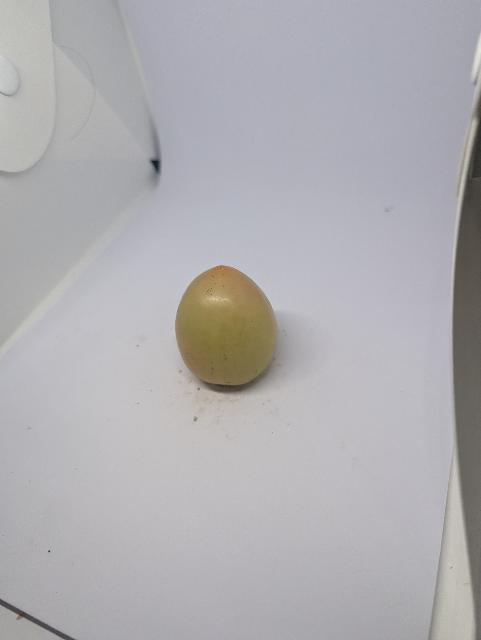breaker: (176, 266, 278, 386)
